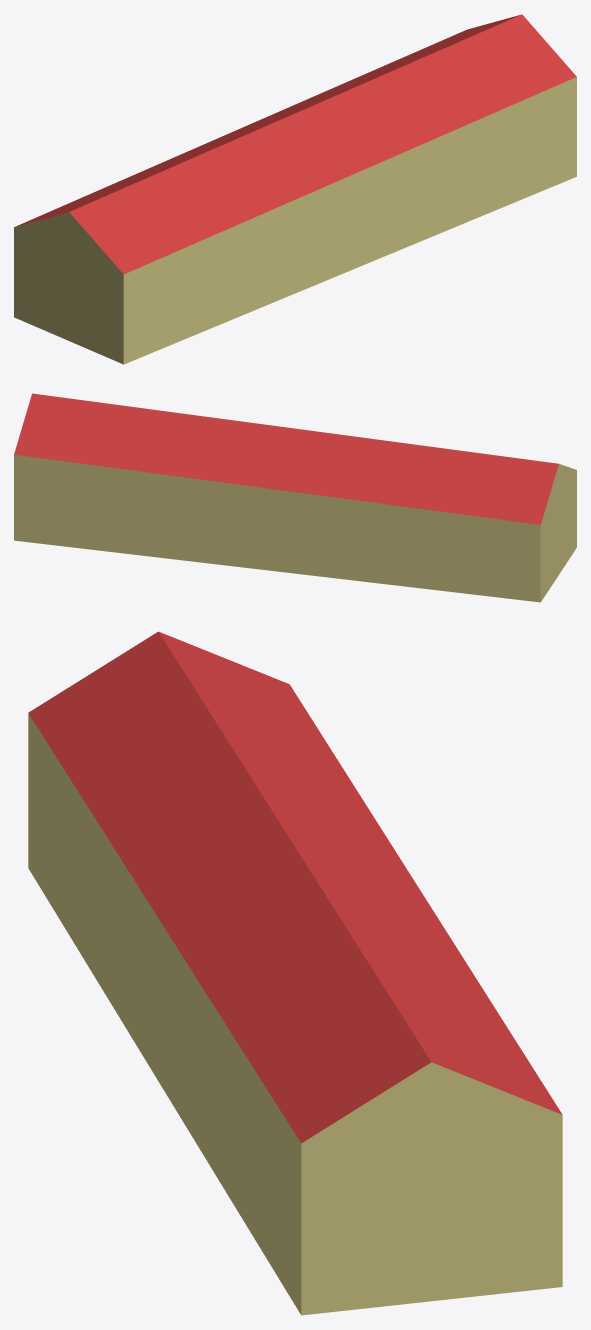
3 views of the same model, one above another, from view 1: azimuth 30°, elevation 25°; view 2: azimuth 150°, elevation 25°; view 3: azimuth 270°, elevation 25° (orthographic). The views are drawn at different scales.
Bounding box in the file's own units: 35.46 × 16.83 × 8.3.
